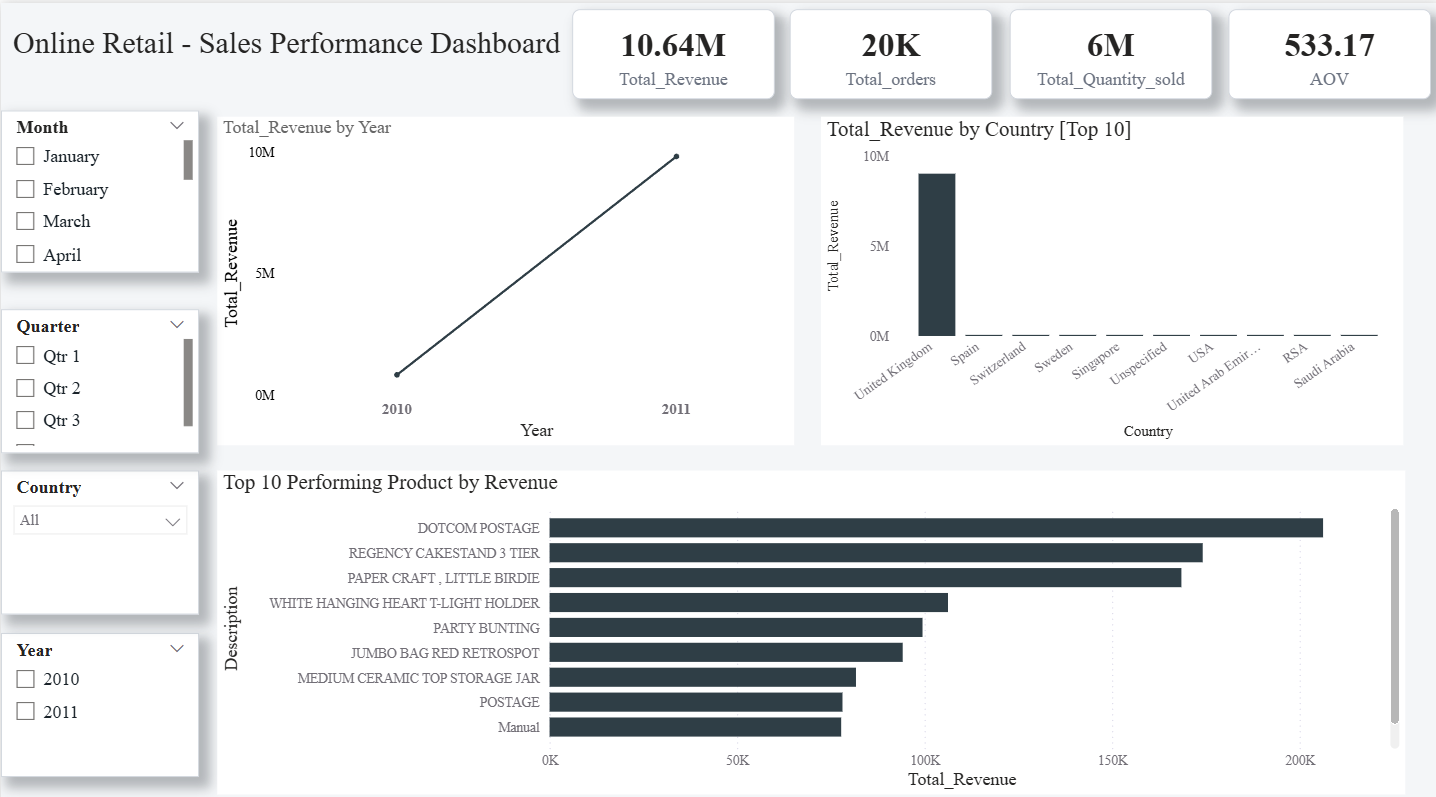

What the dashboard file says about the page in this screenshot:
{"tool":"powerbi","page":{"name":"Transaction_Sales Analysis","canvas":[1280,720],"ordinal":0},"visuals":[{"type":"card","fields":{"Values":["Transaction_Clean.Total_Revenue"]},"box":[508.1,5.5,180,80],"z":0},{"type":"card","fields":{"Values":["Transaction_Clean.Total_orders"]},"box":[701.6,5.5,180,80],"z":1000},{"type":"card","fields":{"Values":["Transaction_Clean.Total_Quantity_sold"]},"box":[896.4,5.5,180,80],"z":2000},{"type":"card","fields":{"Values":["Transaction_Clean.AOV"]},"box":[1091.3,5.5,180,80],"z":3000},{"type":"lineChart","fields":{"Category":["Transaction_Clean.InvoiceDate.Variation.Date Hierarchy.Year","Transaction_Clean.InvoiceDate.Variation.Date Hierarchy.Quarter","Transaction_Clean.InvoiceDate.Variation.Date Hierarchy.Month","Transaction_Clean.InvoiceDate.Variation.Date Hierarchy.Day"],"Y":["Transaction_Clean.Total_Revenue"]},"box":[191.8,101.3,512.7,292],"z":4000},{"type":"columnChart","title":"Total_Revenue by Country [Top 10]","fields":{"Category":["Transaction_Clean.Country"],"Y":["Transaction_Clean.Total_Revenue"]},"box":[728.6,101.5,517.3,292.3],"z":5000},{"type":"slicer","fields":{"Values":["Transaction_Clean.InvoiceDate.Variation.Date Hierarchy.Year"]},"box":[0,560,176,128],"z":6000},{"type":"slicer","fields":{"Values":["Transaction_Clean.Country"]},"box":[0,416,176,128],"z":7000},{"type":"slicer","fields":{"Values":["Transaction_Clean.InvoiceDate.Variation.Date Hierarchy.Quarter"]},"box":[0,272,176,128],"z":8000},{"type":"slicer","fields":{"Values":["Transaction_Clean.InvoiceDate.Variation.Date Hierarchy.Month"]},"box":[0,96,176,144],"z":9000},{"type":"barChart","title":"Top 10 Performing Product by Revenue","fields":{"Category":["Transaction_Clean.Description"],"Y":["Transaction_Clean.Total_Revenue"]},"box":[192,416,1056,288],"z":10000},{"type":"textbox","box":[0,15.7,507.9,48.3],"z":11000}]}

Visuals, with their boxes in screenshot pixels (x1, y1, x2, y2), scaled from the page's 1280x720 canvas onto the 1436x797 screenshot:
card - Transaction_Clean.Total_Revenue: box=[570, 6, 772, 95]
card - Transaction_Clean.Total_orders: box=[787, 6, 989, 95]
card - Transaction_Clean.Total_Quantity_sold: box=[1006, 6, 1208, 95]
card - Transaction_Clean.AOV: box=[1224, 6, 1426, 95]
lineChart - Transaction_Clean.InvoiceDate.Variation.Date Hierarchy.Year x Transaction_Clean.InvoiceDate.Variation.Date Hierarchy.Quarter: box=[215, 112, 790, 435]
"Total_Revenue by Country [Top 10]" columnChart: box=[817, 112, 1398, 436]
slicer - Transaction_Clean.InvoiceDate.Variation.Date Hierarchy.Year: box=[0, 620, 197, 762]
slicer - Transaction_Clean.Country: box=[0, 460, 197, 602]
slicer - Transaction_Clean.InvoiceDate.Variation.Date Hierarchy.Quarter: box=[0, 301, 197, 443]
slicer - Transaction_Clean.InvoiceDate.Variation.Date Hierarchy.Month: box=[0, 106, 197, 266]
"Top 10 Performing Product by Revenue" barChart: box=[215, 460, 1400, 779]
textbox: box=[0, 17, 570, 71]
